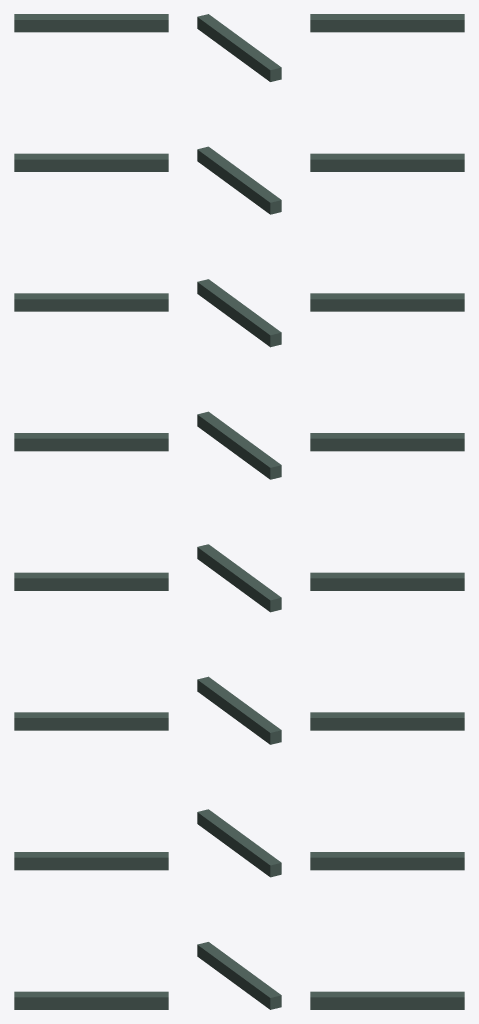
File: Solid_RodZ_Y8.gltf
The picture shows the model from 3 angles, left to right: view 1: azimuth 90°, elevation 25°; view 2: azimuth 210°, elevation 25°; view 3: azimuth 270°, elevation 25°; orthographic projection. The views are drawn at different scales.
Parts seen in each view (by area): view 1: Solid_RodZ_Y8_baked; view 2: Solid_RodZ_Y8_baked; view 3: Solid_RodZ_Y8_baked.
Part boxes in pixels (x1=…): Solid_RodZ_Y8_baked: x1=14, y1=14, x2=168, y2=1009; Solid_RodZ_Y8_baked: x1=197, y1=14, x2=281, y2=1009; Solid_RodZ_Y8_baked: x1=310, y1=14, x2=464, y2=1009.
Size of the model in its own units: 0.09 by 7.09 by 1.
